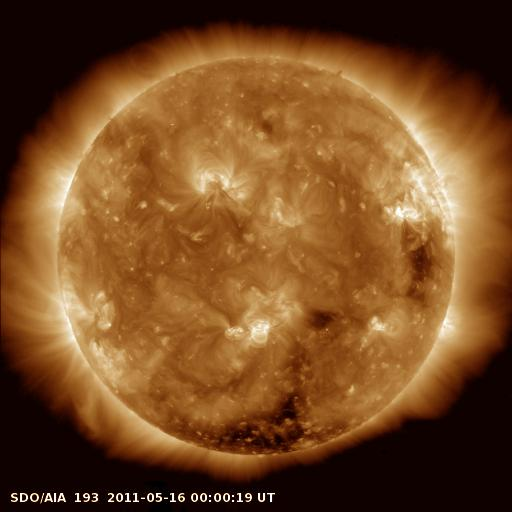coronal_hole: (183, 395, 349, 458), (296, 302, 349, 340), (401, 241, 436, 290)
